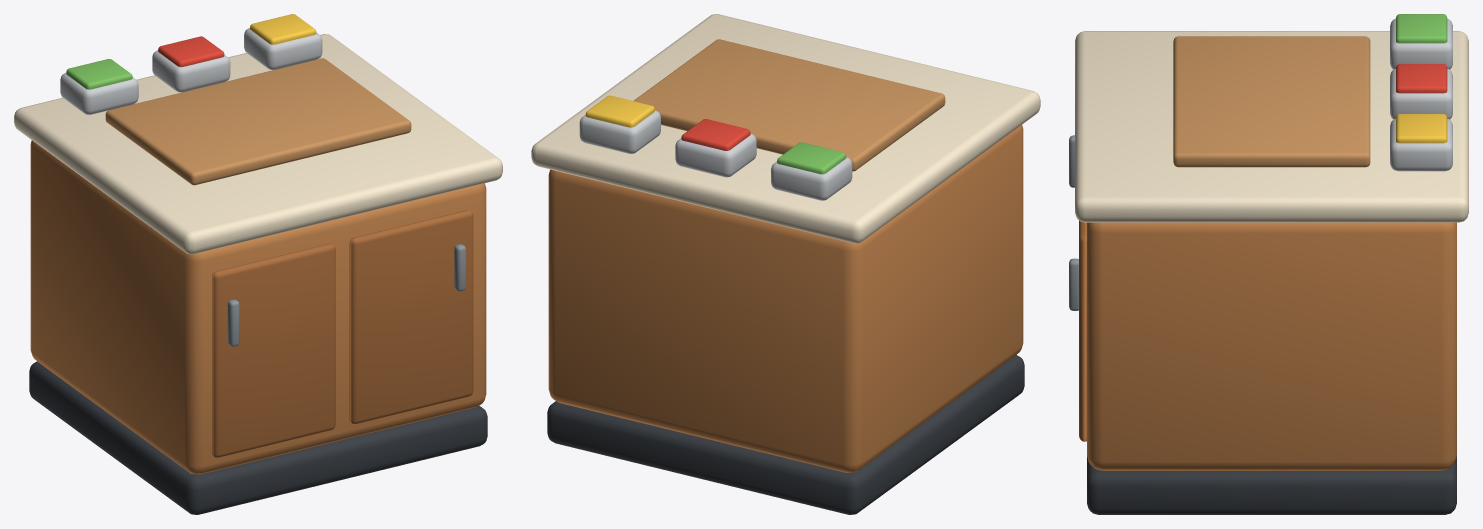
File: st_assembly.glb
3 renders of one model, left to right at view 1: azimuth 30°, elevation 25°; view 2: azimuth 150°, elevation 25°; view 3: azimuth 270°, elevation 25°, orthographic. The views are drawn at different scales.
Parts seen in each view (by area): view 1: assembly; view 2: assembly; view 3: assembly.
Part boxes in pixels (x1=…): assembly: x1=14, y1=14, x2=502, y2=514; assembly: x1=531, y1=14, x2=1040, y2=514; assembly: x1=1069, y1=14, x2=1468, y2=514.
Size of the model in its own units: 1.04 by 1.01 by 1.01.
1 material, 1 textured.
